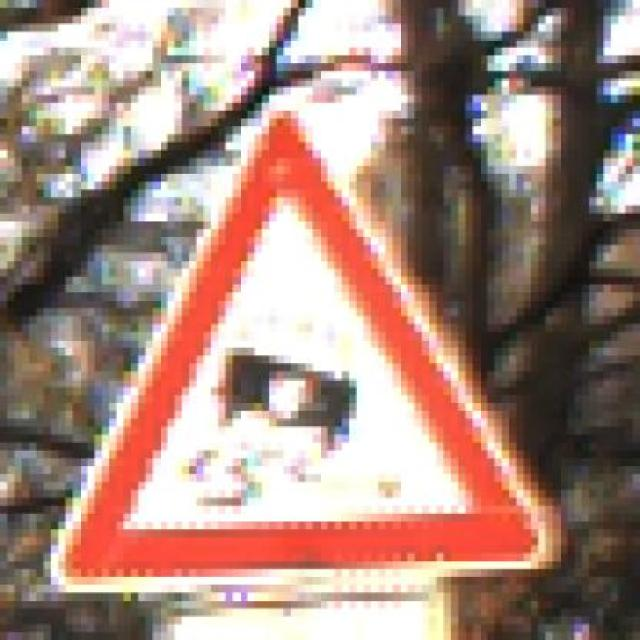Slippery Road Ahead: (51, 95, 582, 600)
